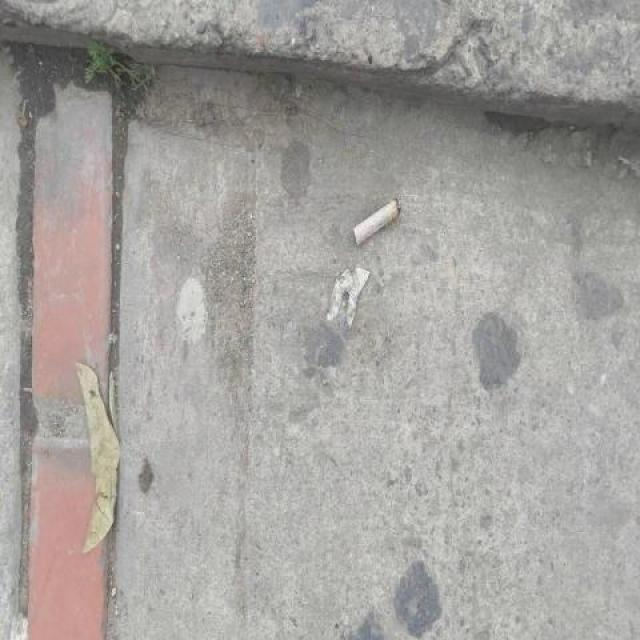non-organic waste: (348, 192, 405, 248)
